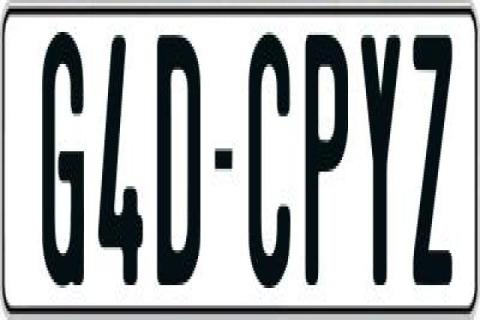0: (95, 29, 141, 288)
C: (248, 27, 298, 297)
D: (156, 35, 206, 303)
G: (38, 32, 84, 294)
P: (302, 32, 346, 296)
Y: (359, 29, 401, 291)
Z: (410, 27, 456, 280)
